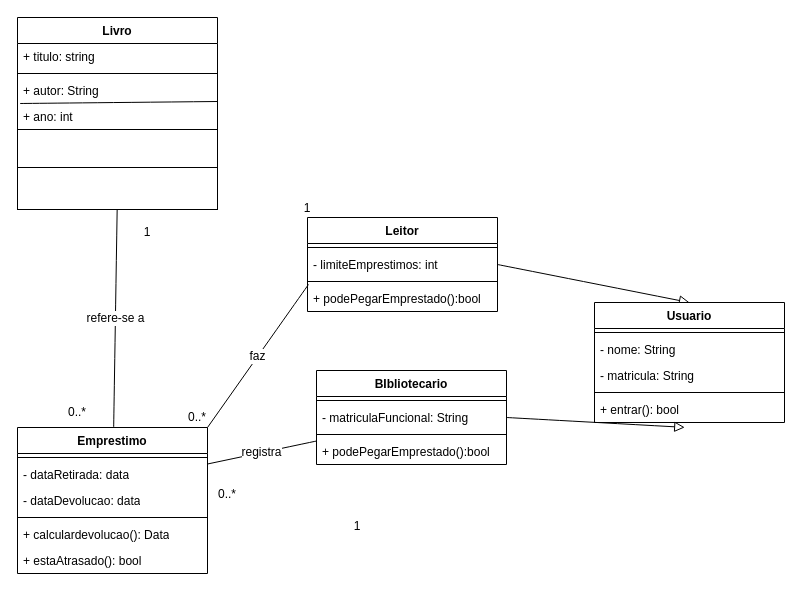
Some shapes in this 802 by 594 pixel diagram are drawn without their labels. Each missing label, with the centre of its shape:
+ estaDisponivel(): bool: point (117, 149)
+ marcarComoEmprestado(): void: point (117, 188)
